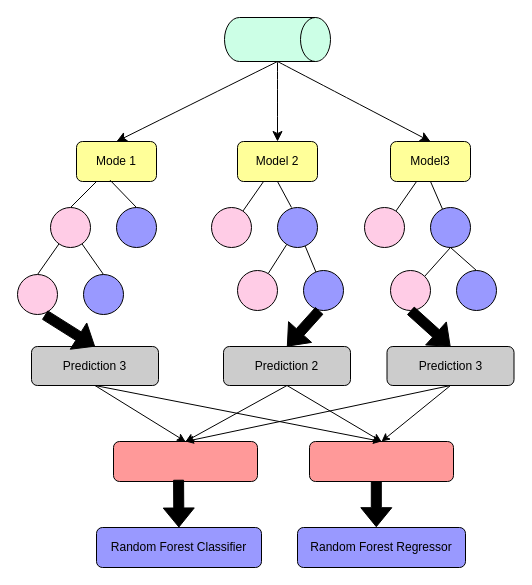
The diagram is 532 pixels wide and 585 high, and some of its shapes have lost their labels. The centre of each missing label's shape, as x and y in pixels:
"Average of Predictions" goes at pixel 381 461.
"DATASET" goes at pixel 277 39.
"Majority Voting Classifier" goes at pixel 185 461.
